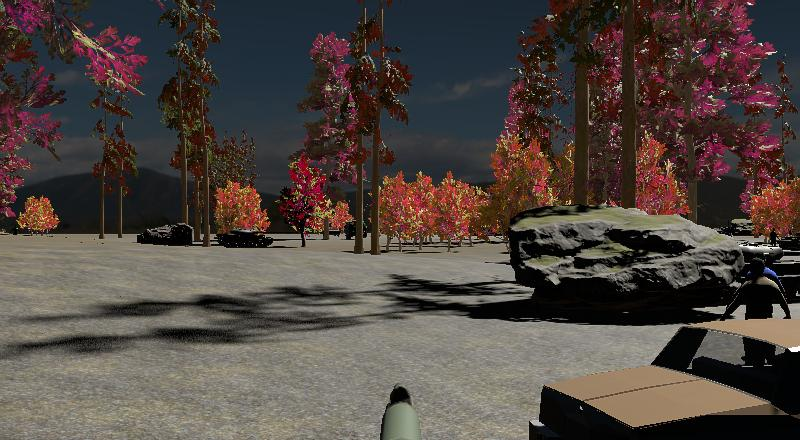Tank: (217, 225, 276, 249)
car: (527, 319, 800, 439)
